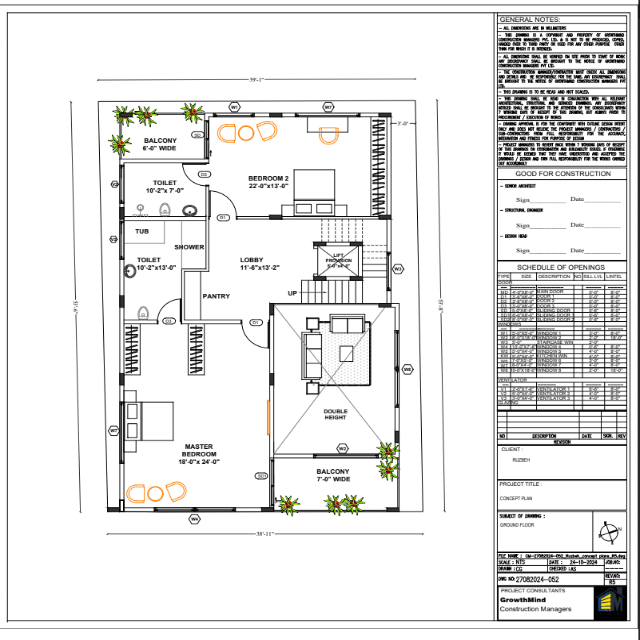door: (208, 189, 239, 218), (240, 321, 271, 350), (181, 161, 208, 187), (155, 297, 183, 322)
